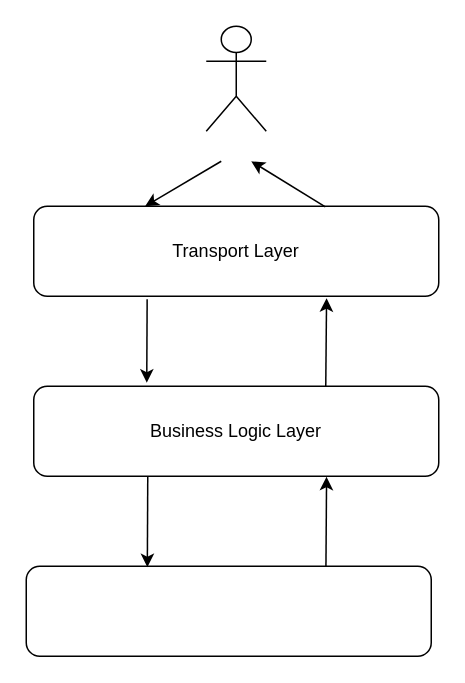
Image size: 465x683. Some labels were removed from this diagram. The box of each missing label's shape, as (x1, y1, x2, y2) in pixels:
Data Access Layer: (25, 565, 431, 656)
User: (205, 25, 266, 131)
